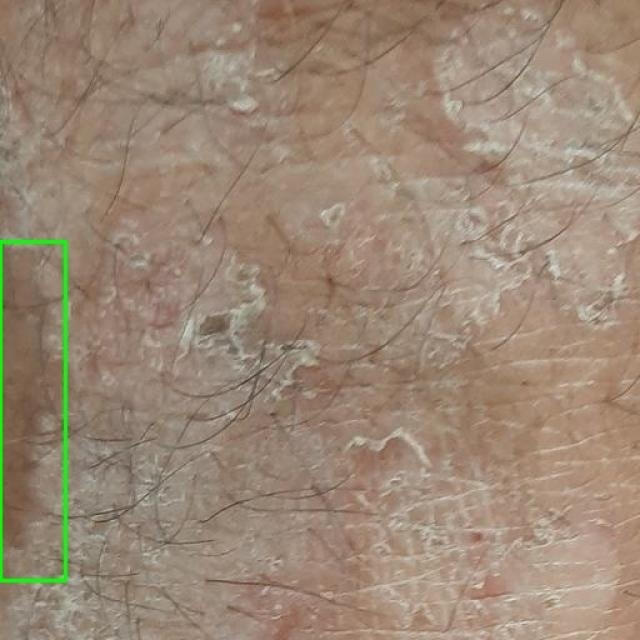Tinea Corporis: (0, 241, 65, 580)
